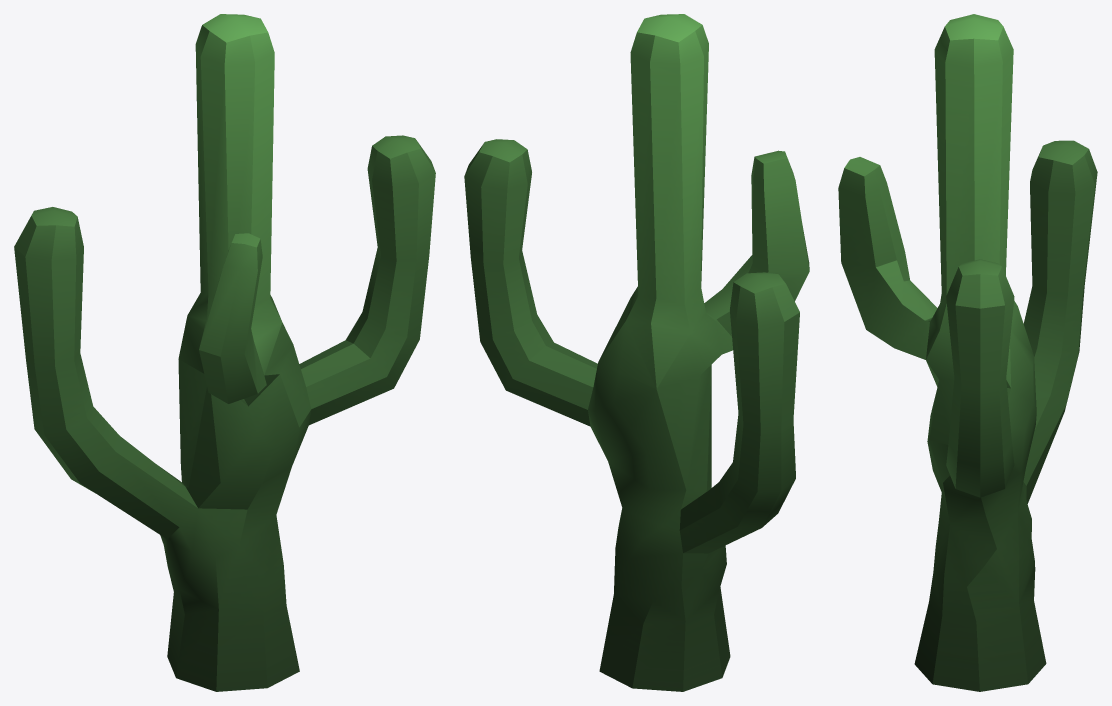
File: Cactus_A_3.fbx
3 views of the same model, side by side, from view 1: azimuth 30°, elevation 25°; view 2: azimuth 150°, elevation 25°; view 3: azimuth 270°, elevation 25° (orthographic).
Visible parts, largest first — view 1: Cactus_A_3; view 2: Cactus_A_3; view 3: Cactus_A_3.
Part boxes in pixels (x1,y1,x2,y2): Cactus_A_3: (14,14,435,691); Cactus_A_3: (464,14,809,691); Cactus_A_3: (838,14,1097,691).
Bounding box in the file's own units: 49.81 × 83.65 × 30.48.
